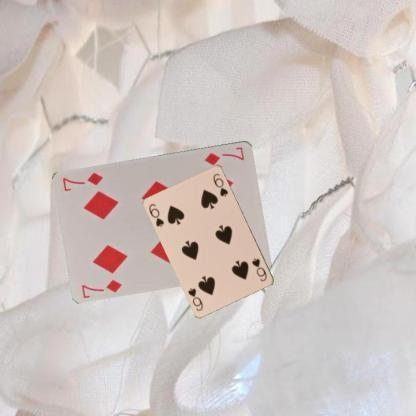6s: (146, 201, 166, 228), (250, 256, 268, 283)
7d: (202, 144, 246, 166), (79, 276, 123, 298)
